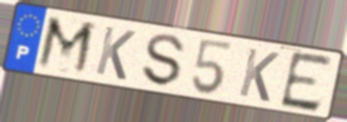5: (189, 37, 235, 98)
E: (277, 49, 336, 115)
K: (236, 46, 282, 105), (93, 24, 138, 83)
M: (34, 14, 99, 79)
S: (141, 32, 188, 89)
